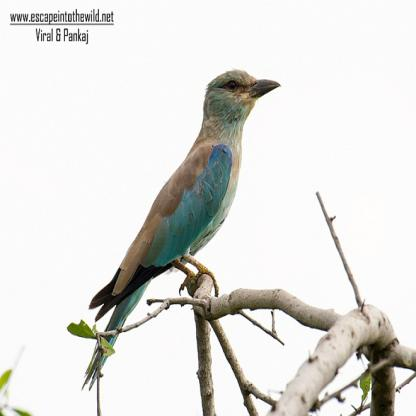Burung: (82, 69, 282, 393)
